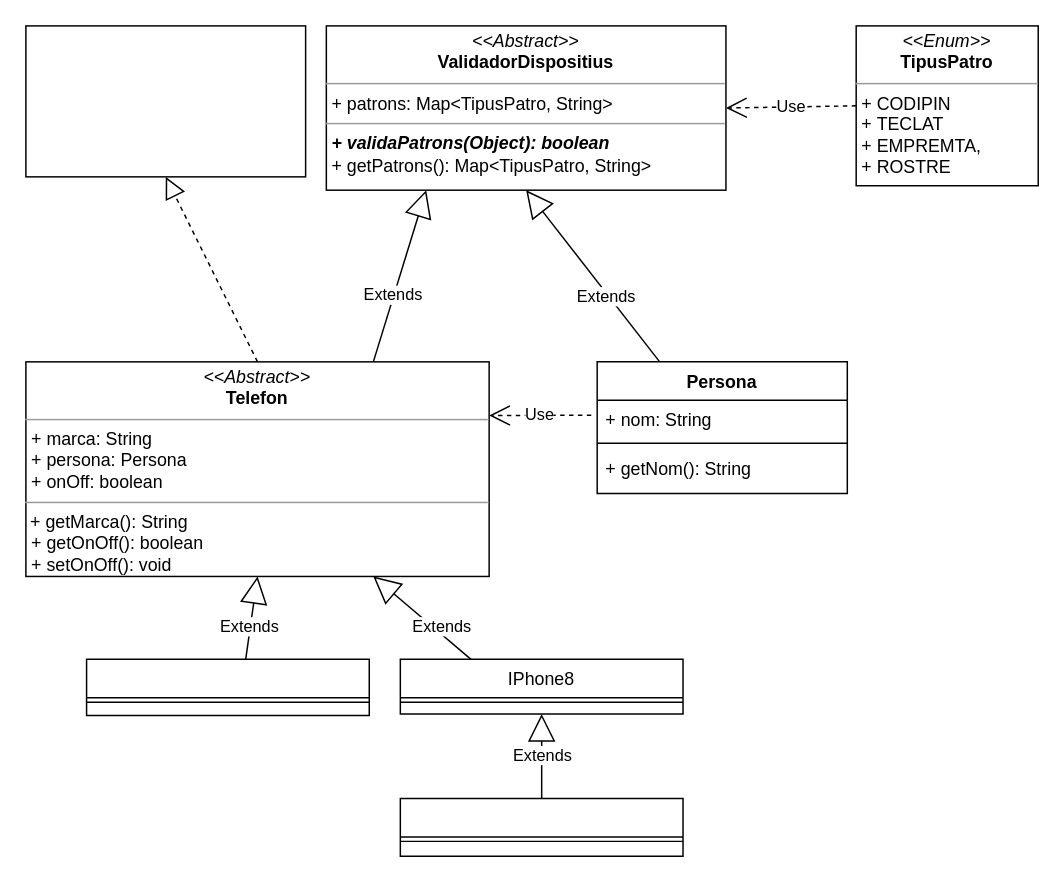
Image size: 1064x882. Some labels were removed from this diagram. The shapes that lost their labels are listed below. From the top down, each one's centre as x and y in pixels, then its label:
At point 165,100: "<<Interface>> DispositiuElectronic + on(): void + off(): void".
At point 227,687: "Android".
At point 541,826: "IPhone10".
